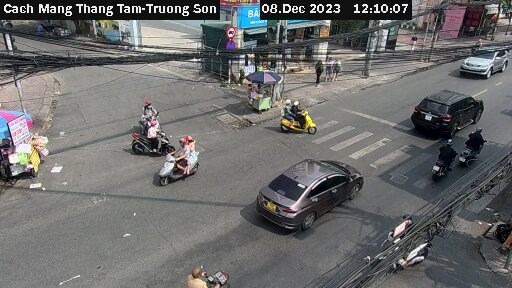car: (253, 156, 366, 232), (411, 88, 483, 140), (461, 43, 512, 82)
motorbike: (152, 143, 212, 182), (277, 99, 328, 140), (130, 124, 177, 158), (423, 141, 457, 182), (126, 99, 170, 128), (450, 132, 491, 160)
